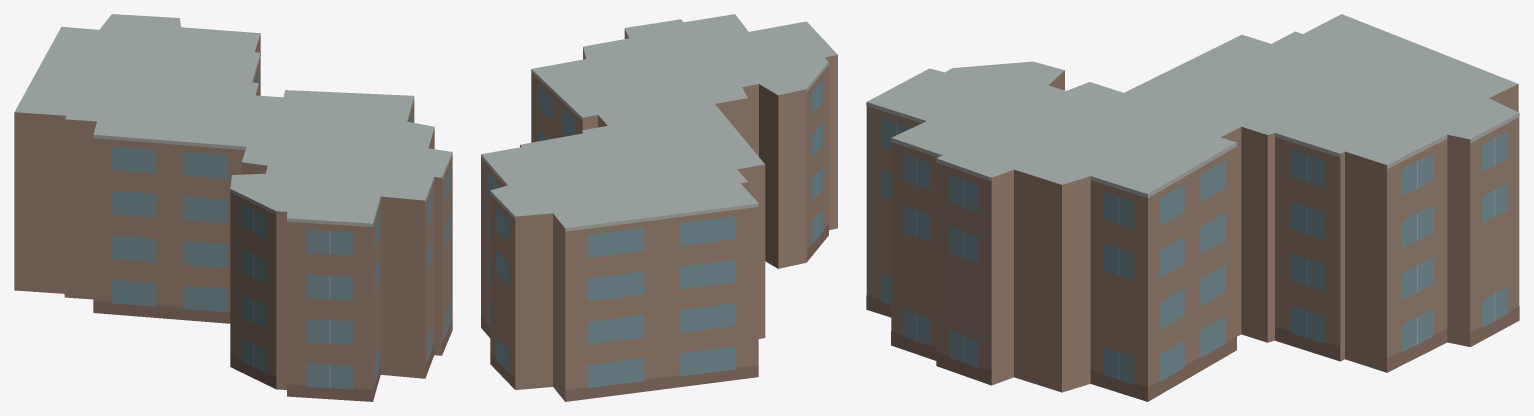
File: survey-upis-32498049.glb
The picture shows the model from 3 angles, left to right: view 1: azimuth 30°, elevation 25°; view 2: azimuth 150°, elevation 25°; view 3: azimuth 270°, elevation 25°; orthographic projection. The views are drawn at different scales.
Visible parts, largest first — view 1: survey-upis-32498049.tmp; view 2: survey-upis-32498049.tmp; view 3: survey-upis-32498049.tmp.
Boxes of the visible parts, x1,y1,x2,y2 form: survey-upis-32498049.tmp: (14, 14, 452, 401); survey-upis-32498049.tmp: (481, 14, 837, 401); survey-upis-32498049.tmp: (866, 14, 1519, 401).
Size of the model in its own units: 23.54 by 12.65 by 36.05.
